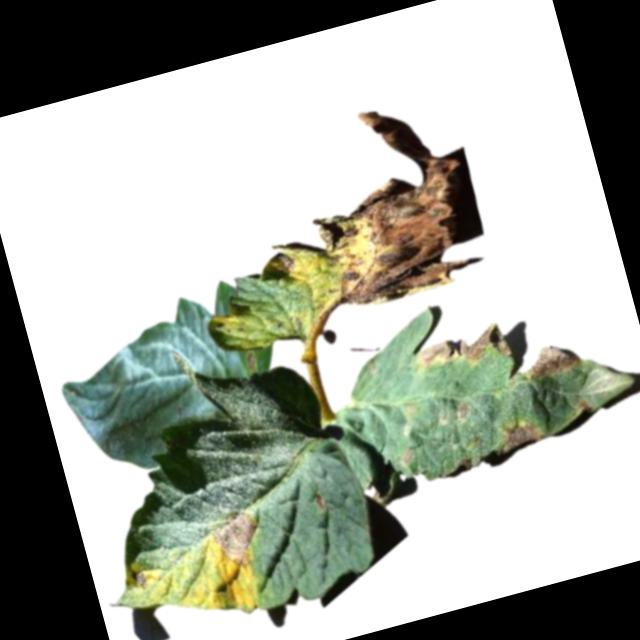Early_blight: (294, 89, 489, 314), (401, 318, 513, 383), (211, 507, 269, 578), (518, 336, 582, 384), (493, 414, 546, 453), (263, 248, 298, 283), (126, 567, 152, 595), (572, 393, 595, 414), (453, 401, 476, 421), (244, 354, 257, 372)
